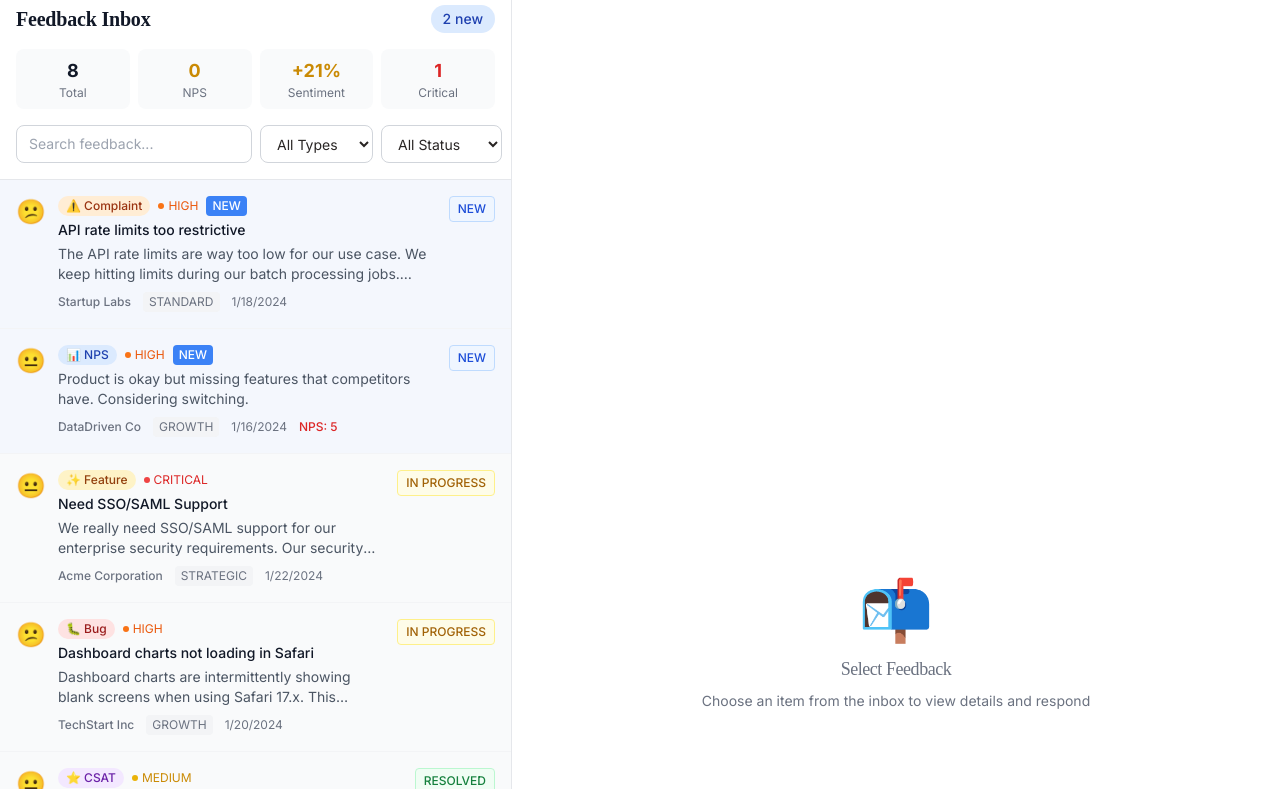
FeedbackView › has reply input in detail panel
// Click on a feedback item
Click the text "Need SSO/SAML Support" at [143, 504], box [58,495,228,512]
(page scrolled)
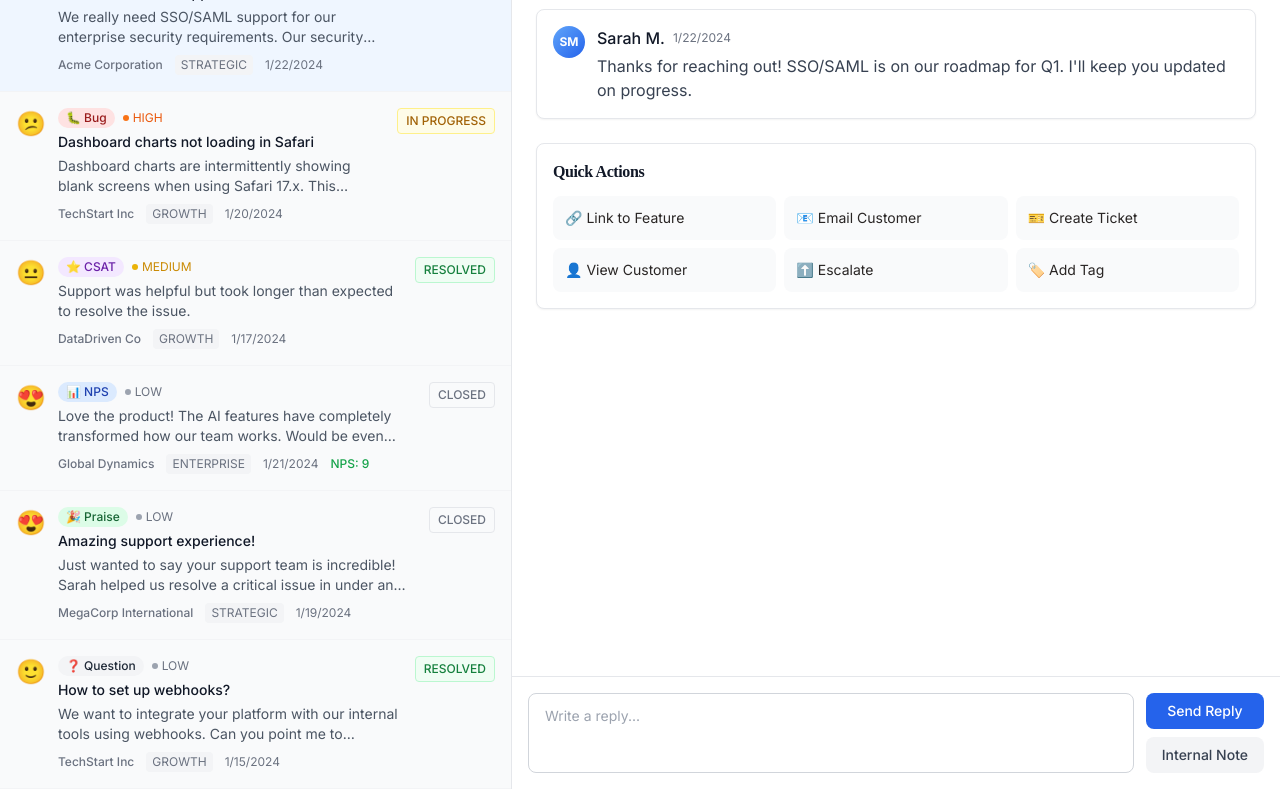
Check: the text box with placeholder "Write a reply..." is shown, box [528,693,1134,773]
Check: the button "Send Reply" is shown, box [1146,693,1264,729]
Check: the button "Internal Note" is shown, box [1146,737,1264,773]
